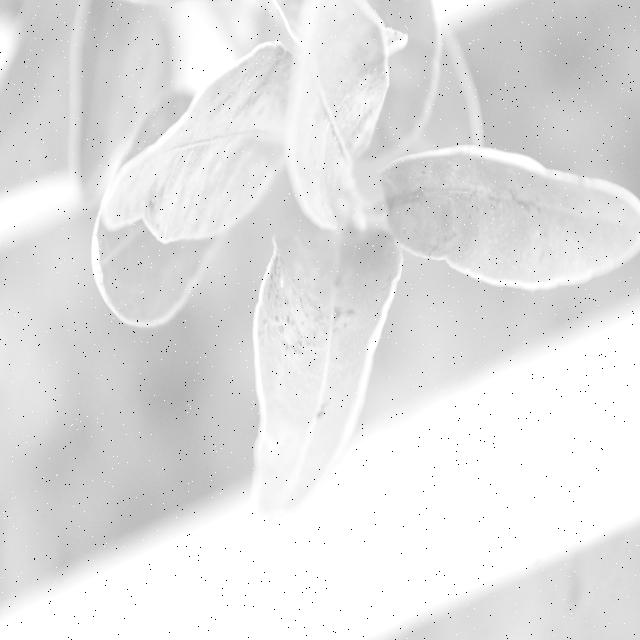canker: (263, 245, 362, 366)
